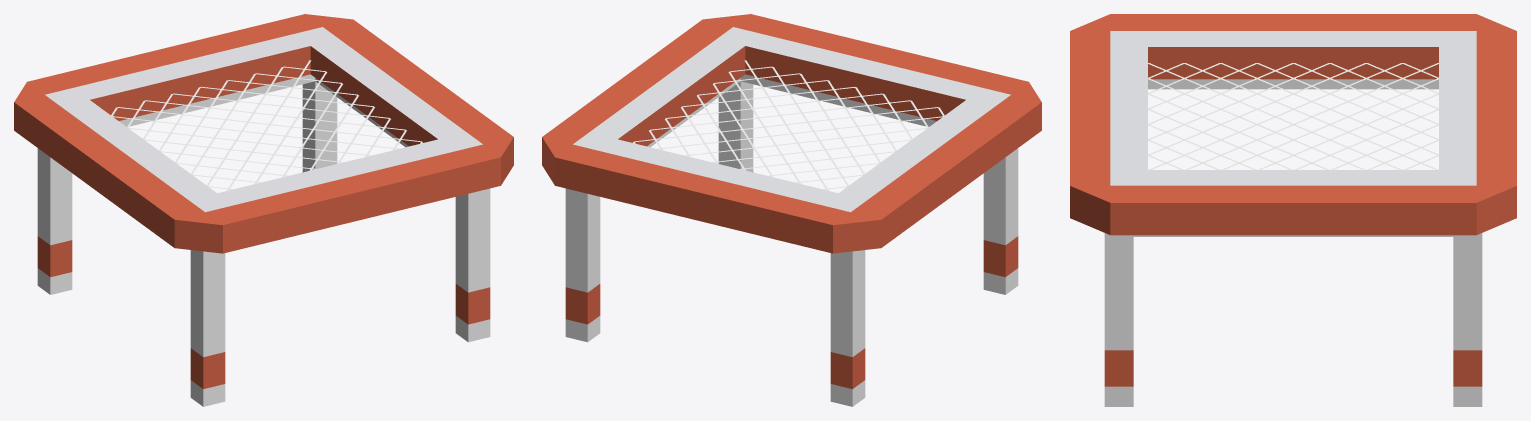
The model's file is frameHighTile.fbx.
The picture shows the model from 3 angles, left to right: view 1: azimuth 30°, elevation 25°; view 2: azimuth 150°, elevation 25°; view 3: azimuth 270°, elevation 25°; orthographic projection. The views are drawn at different scales.
Parts seen in each view (by area): view 1: frameHighTile; view 2: frameHighTile; view 3: frameHighTile.
Boxes of the visible parts, <box> form: frameHighTile: <box>14,14,513,406</box>; frameHighTile: <box>542,14,1041,406</box>; frameHighTile: <box>1070,14,1516,406</box>.
Size of the model in its own units: 10 by 5.4 by 10.
Materials: 4 (1 with a texture image).
